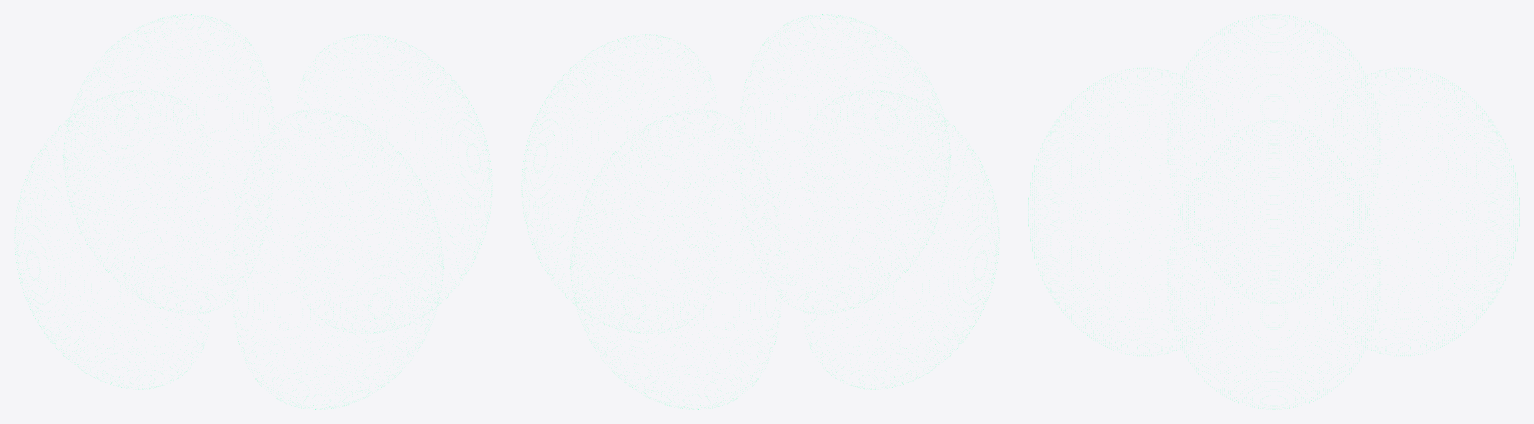
File: orbital_n4_l2_m2_real_point_cloud.fbx
The picture shows the model from 3 angles, left to right: view 1: azimuth 30°, elevation 25°; view 2: azimuth 150°, elevation 25°; view 3: azimuth 270°, elevation 25°; orthographic projection. The views are drawn at different scales.
Visible parts, largest first — view 1: orbital_n4_l2_m2_real_point_cloud; view 2: orbital_n4_l2_m2_real_point_cloud; view 3: orbital_n4_l2_m2_real_point_cloud.
Boxes of the visible parts, left/top/right/bottom form: orbital_n4_l2_m2_real_point_cloud: left=14, top=14, right=492, bottom=409; orbital_n4_l2_m2_real_point_cloud: left=521, top=14, right=999, bottom=409; orbital_n4_l2_m2_real_point_cloud: left=1028, top=14, right=1519, bottom=409.
Bounding box in the file's own units: 6839 × 4197 × 6839.
